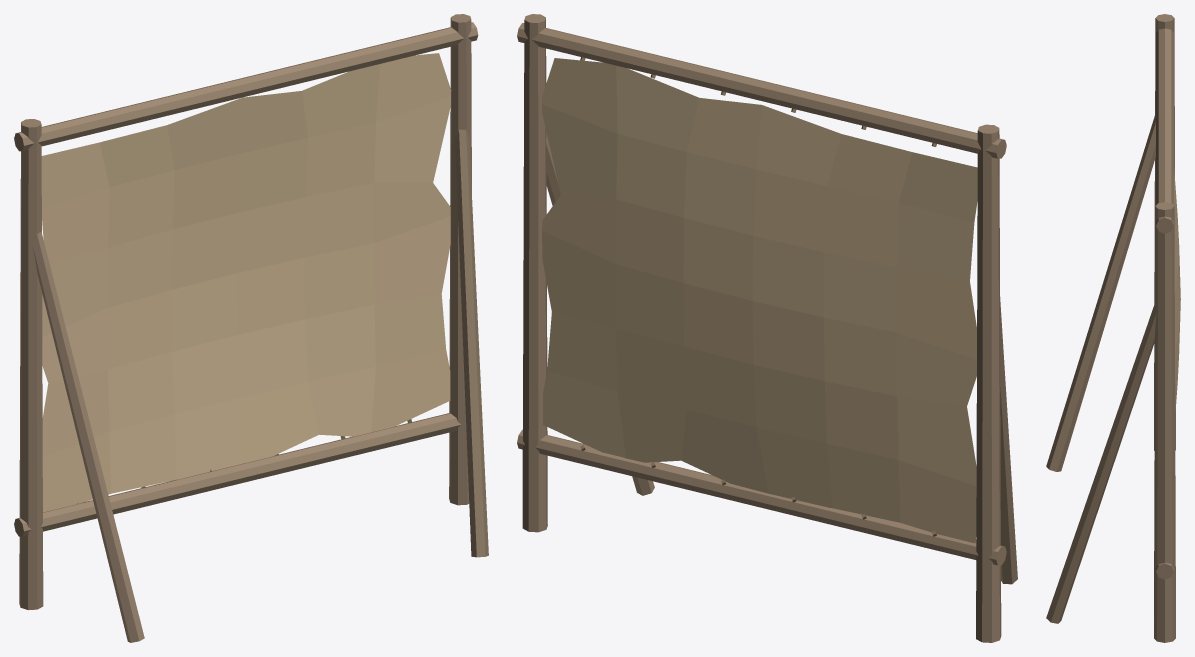
The model's file is hide-frame.glb.
3 renders of one model, left to right at view 1: azimuth 30°, elevation 25°; view 2: azimuth 150°, elevation 25°; view 3: azimuth 270°, elevation 25°, orthographic. The views are drawn at different scales.
Visible parts, largest first — view 1: ware; view 2: ware; view 3: ware.
Part boxes in pixels (left/top/right/bottom): ware: left=14, top=14, right=488, bottom=642; ware: left=517, top=14, right=1017, bottom=642; ware: left=1046, top=14, right=1180, bottom=642.
Bounding box in the file's own units: 1.48 × 1.51 × 0.4238.
